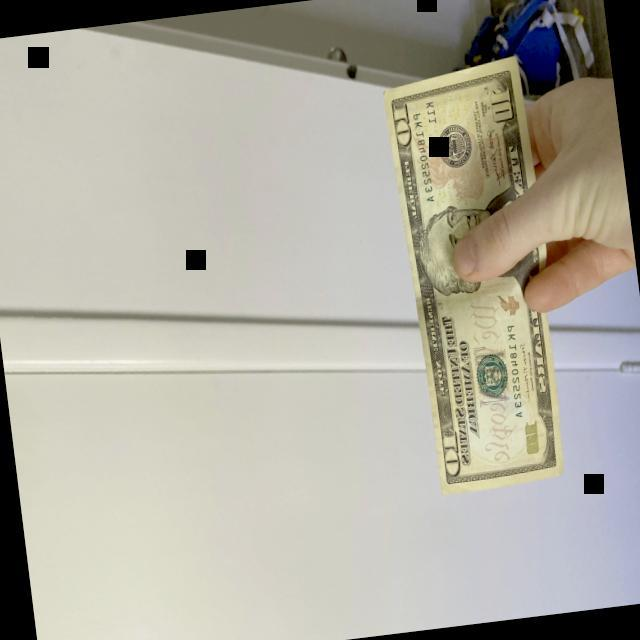ten: (380, 52, 570, 498)
